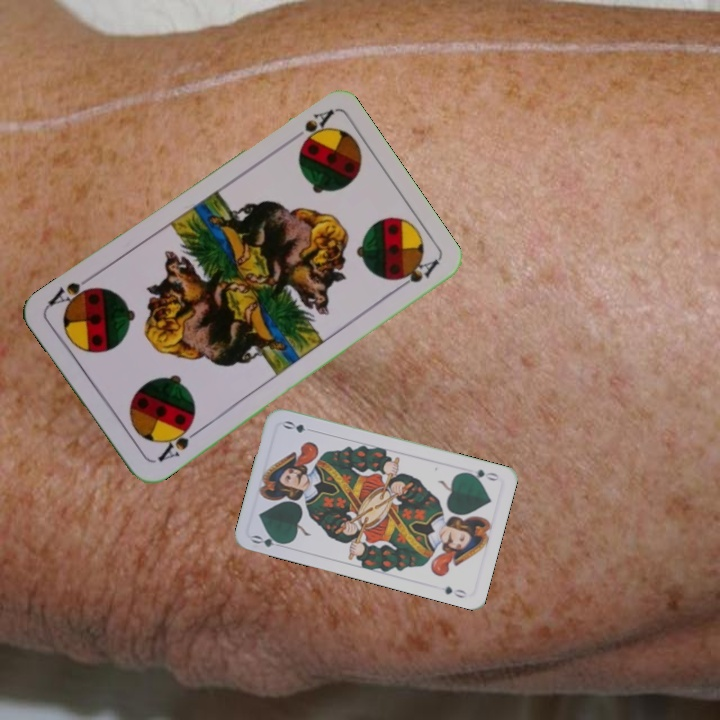GO: (248, 531, 289, 551), (461, 465, 502, 484)
SA: (283, 105, 336, 150), (153, 418, 203, 465)
